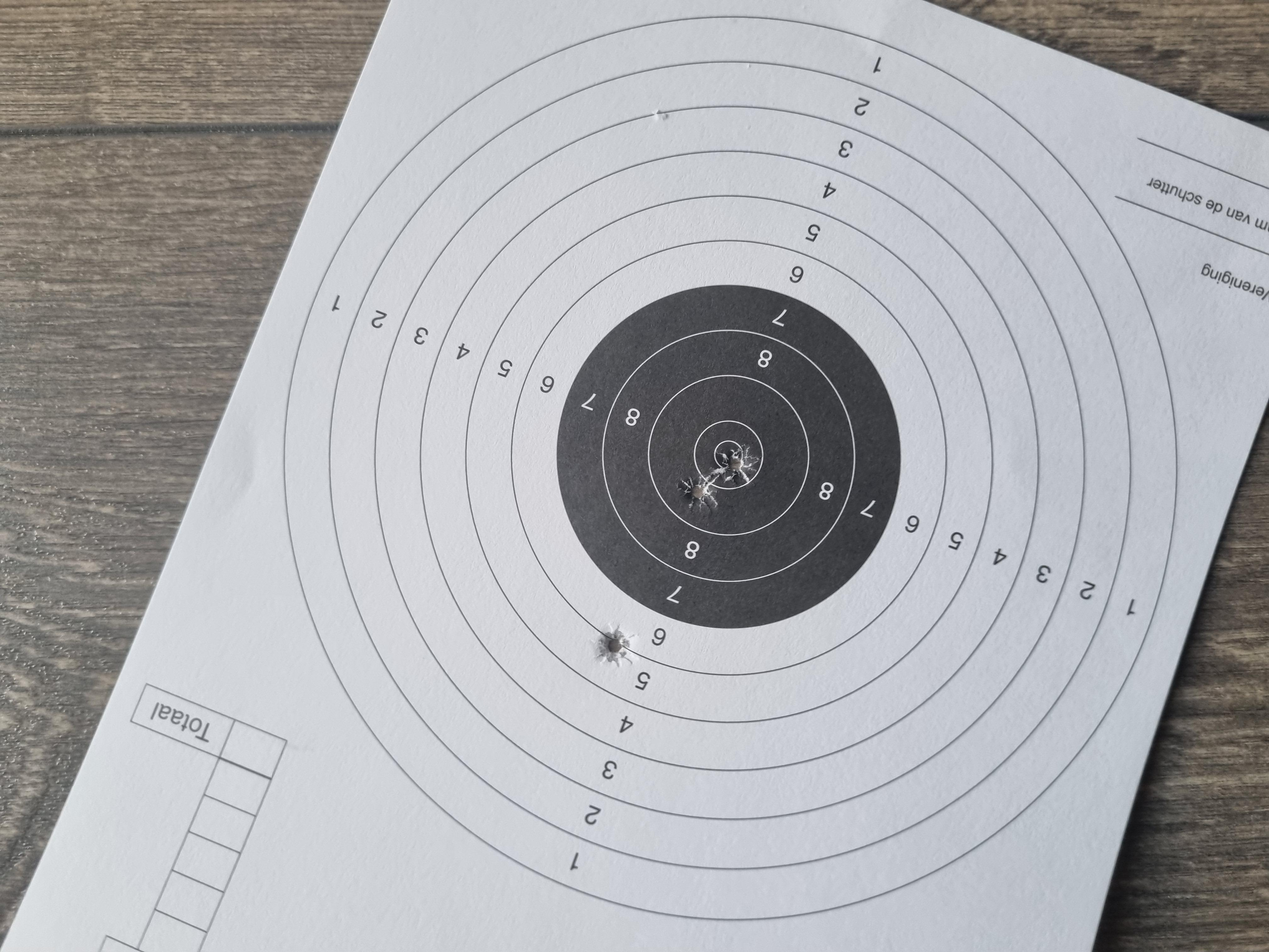hole: (623, 534, 677, 570), (382, 446, 435, 476), (589, 510, 638, 540)
